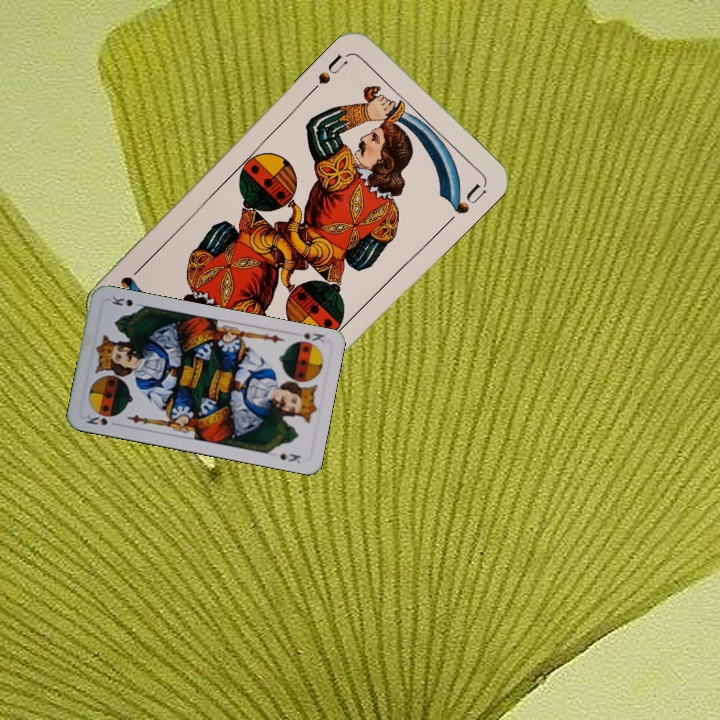SK: (82, 409, 116, 428), (299, 328, 327, 345)
SU: (307, 50, 351, 95)
